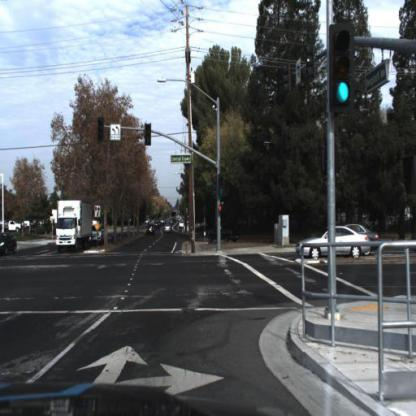car: (296, 222, 369, 258), (206, 221, 238, 243), (0, 229, 18, 255), (6, 216, 26, 237)
trafficLight: (220, 153, 228, 180), (143, 123, 151, 146), (144, 120, 151, 146)
truck: (54, 197, 94, 252)
